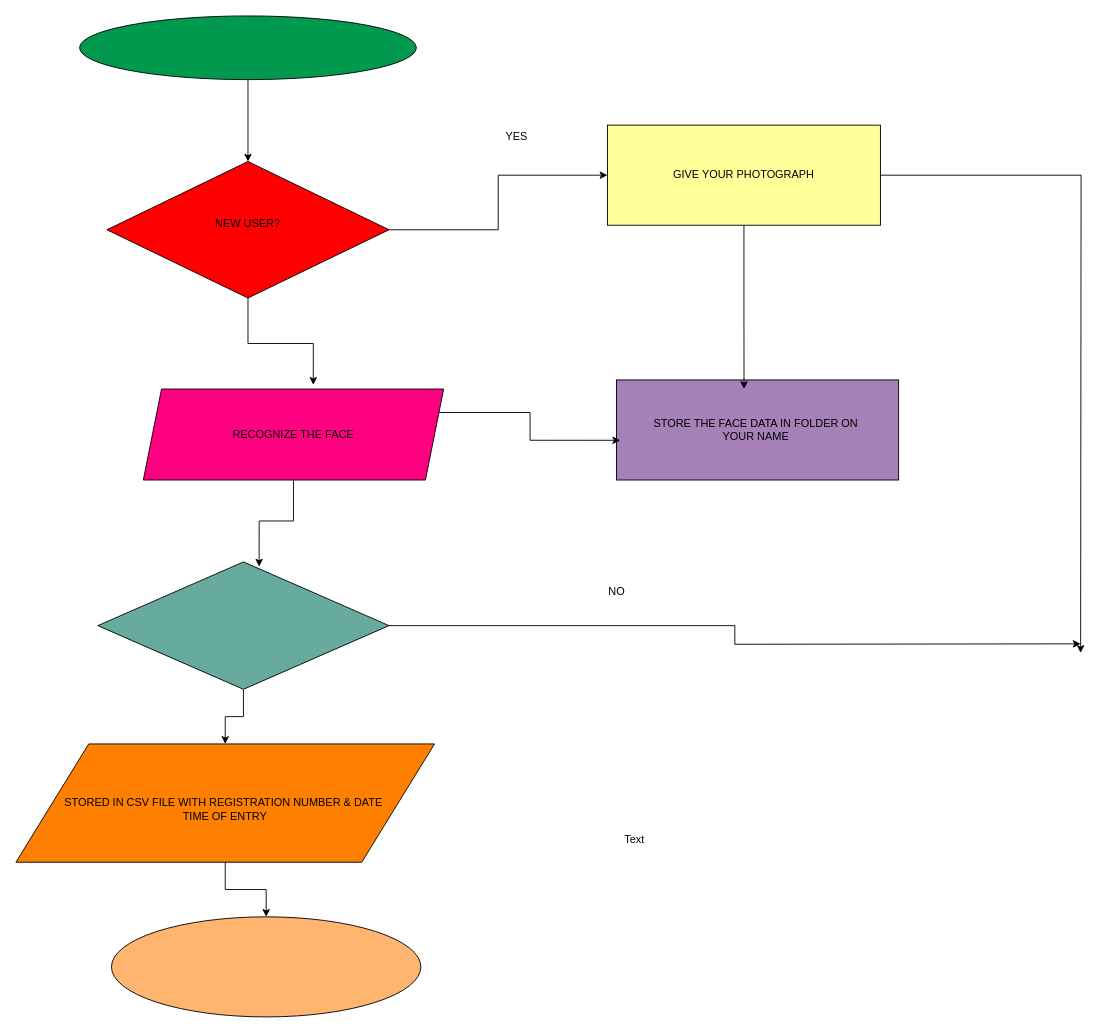
Some shapes in this 1105 by 1033 pixel diagram are drawn without their labels. Here are the shapes that lost their labels. From the top down, the centre of each, then its label:
At point 247,47: "START".
At point 243,625: "FACE RECOGNIOZED".
At point 266,966: "END".
